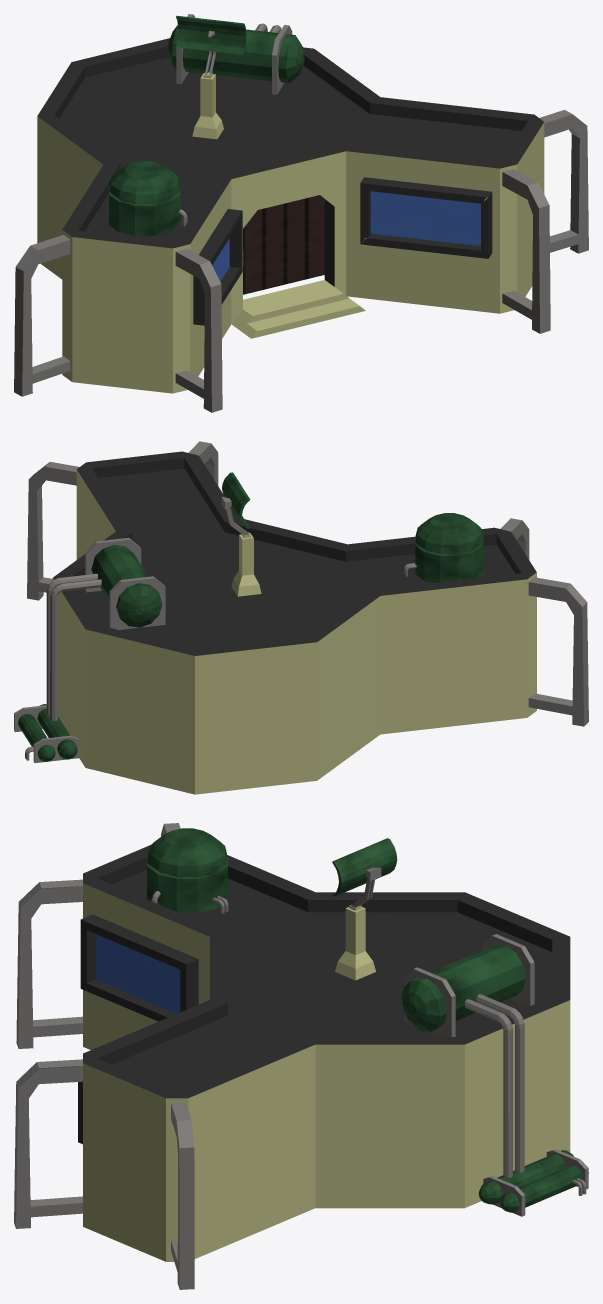
Rendered from Edificio01.fbx.
3 renders of one model, top to bottom at view 1: azimuth 30°, elevation 25°; view 2: azimuth 150°, elevation 25°; view 3: azimuth 270°, elevation 25°, orthographic. The views are drawn at different scales.
Visible parts, largest first — view 1: LOD_0; view 2: LOD_0; view 3: LOD_0.
Part boxes in pixels (<box>): LOD_0: <box>14,14,588,412</box>; LOD_0: <box>14,441,588,794</box>; LOD_0: <box>14,823,588,1289</box>.
Size of what is drawn, in the model's own units: 1483 by 600 by 1136.
